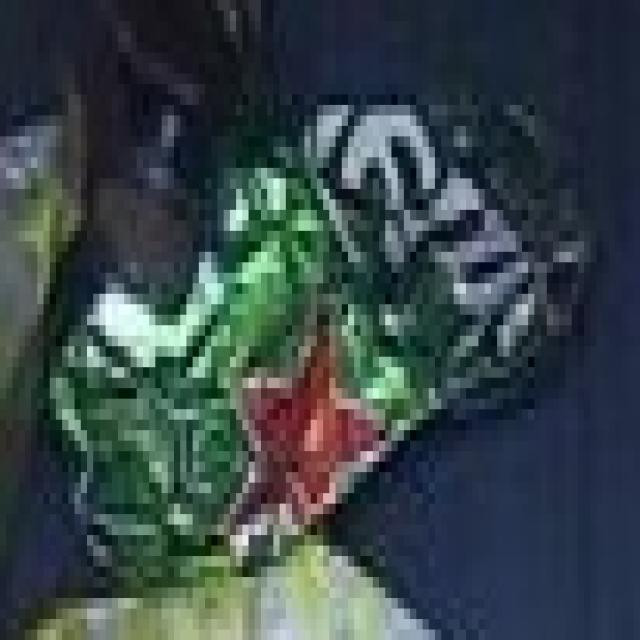can: (32, 45, 624, 597)
